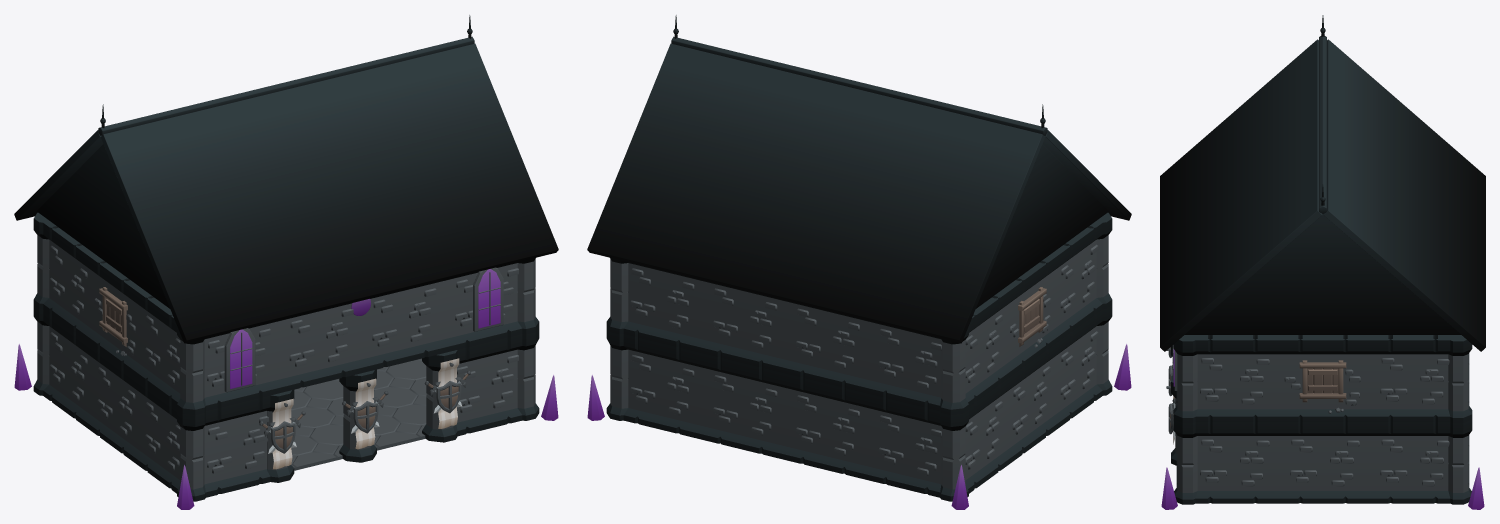
Rendered from bank_duskhold.glb.
3 renders of one model, left to right at view 1: azimuth 30°, elevation 25°; view 2: azimuth 150°, elevation 25°; view 3: azimuth 270°, elevation 25°, orthographic. The views are drawn at different scales.
Parts seen in each view (by area): view 1: bank_duskhold; view 2: bank_duskhold; view 3: bank_duskhold.
Boxes of the visible parts, left/top/right/bottom form: bank_duskhold: left=14, top=15, right=558, bottom=509; bank_duskhold: left=587, top=15, right=1131, bottom=509; bank_duskhold: left=1160, top=15, right=1485, bottom=509.
Size of the model in its own units: 13.68 by 12.17 by 10.85.
Materials: 5 (5 with a texture image).
